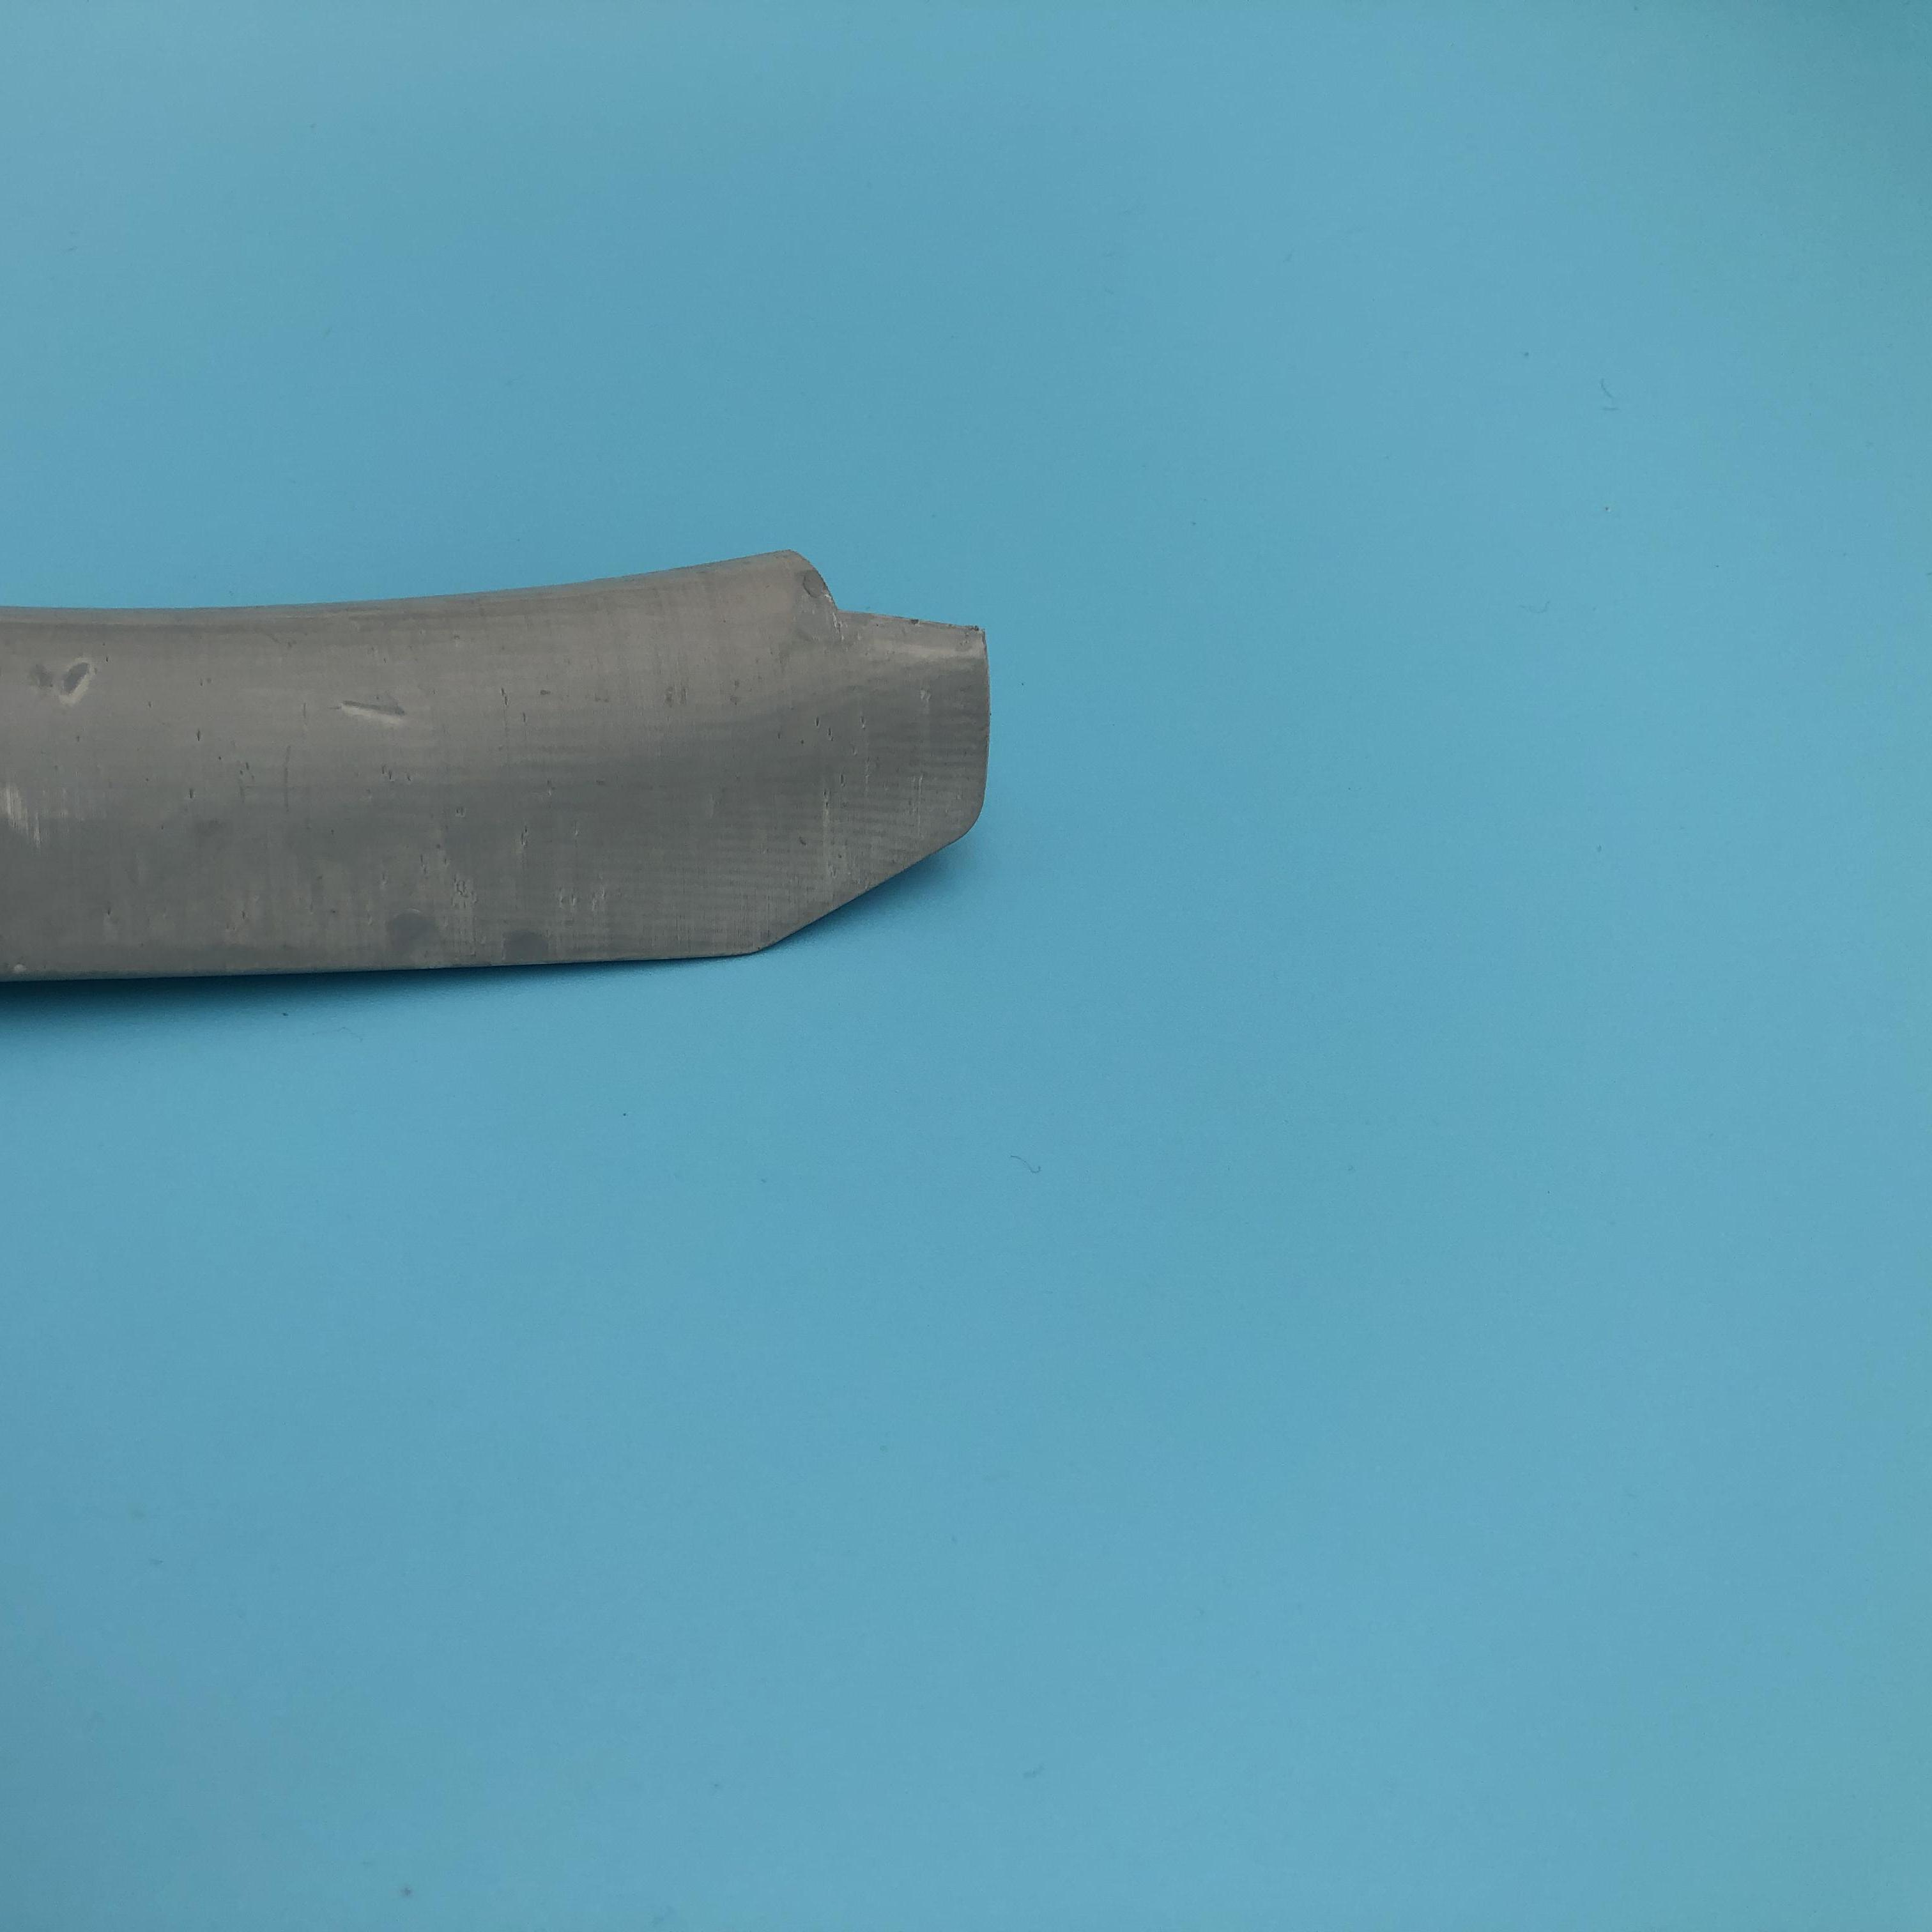fracture: (782, 550, 987, 633)
